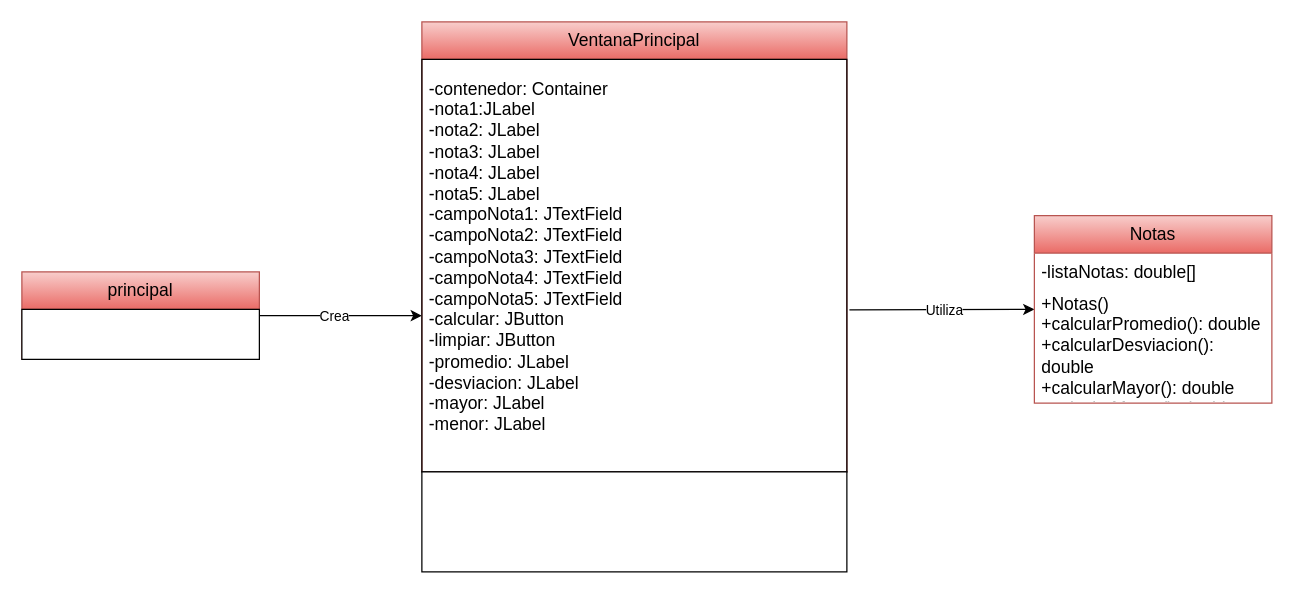
The diagram is 1294 pixels wide and 594 high, and some of its shapes have lost their labels. The centre of each missing label's shape, as x and y in pixels:
+ main (args: String[]): void: (140,333)
+VentanaPrincipal() -inicio(): void +actionPerformed(evento: ActionEvent):void: (634,521)
